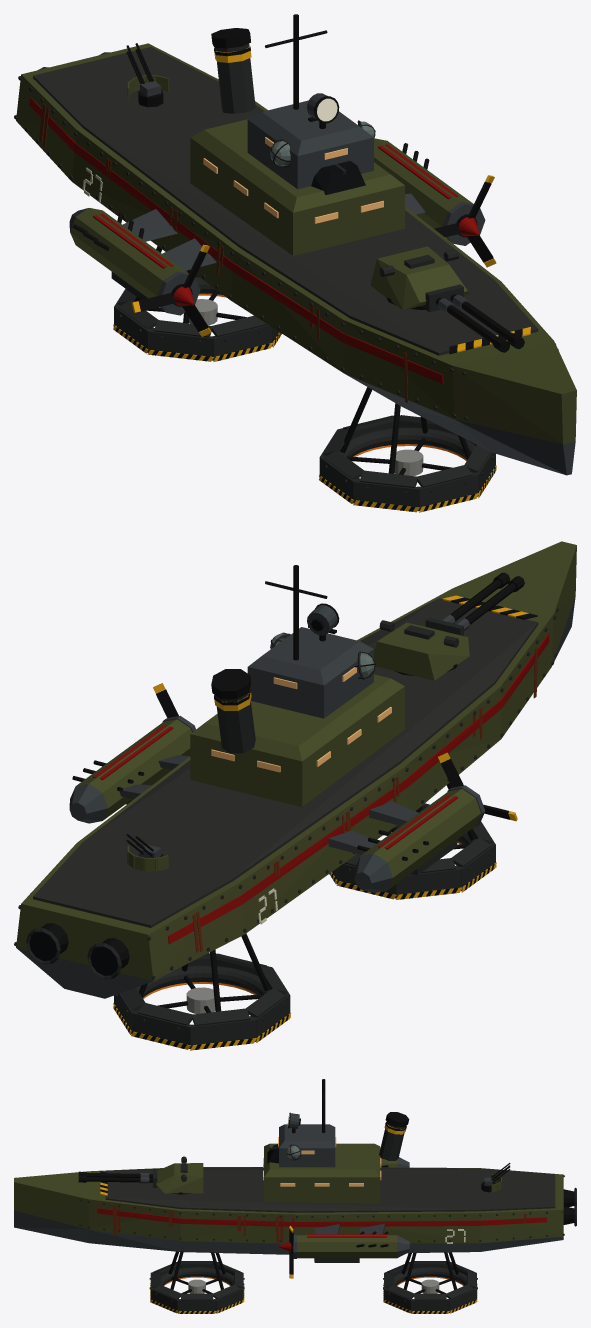
Rendered from frigate.obj.
3 views of the same model, one above another, from view 1: azimuth 30°, elevation 25°; view 2: azimuth 150°, elevation 25°; view 3: azimuth 270°, elevation 25° (orthographic). The views are drawn at different scales.
Visible parts, largest first — view 1: frigate; view 2: frigate; view 3: frigate.
Part boxes in pixels (x1=…): frigate: x1=14, y1=14, x2=576, y2=512; frigate: x1=14, y1=541, x2=576, y2=1050; frigate: x1=14, y1=1079, x2=576, y2=1313.
Size of the model in its own units: 160 by 160 by 380.
Materials: 1 (1 with a texture image).
